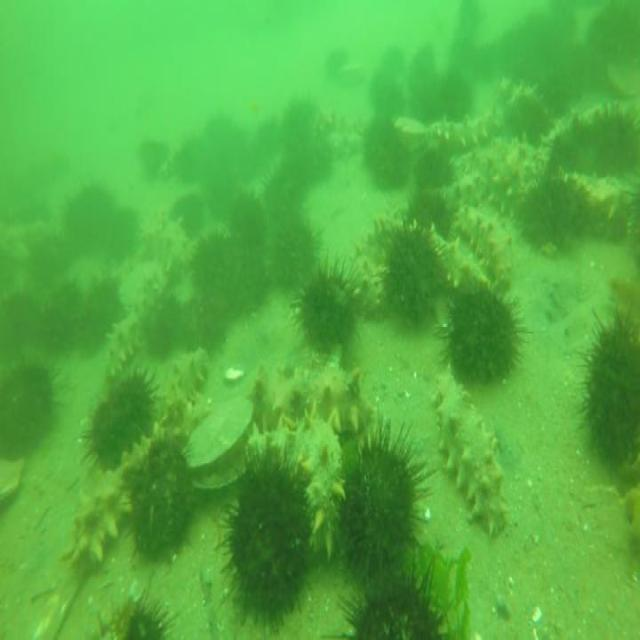echinus: (216, 447, 314, 631), (342, 403, 437, 575), (570, 302, 640, 482), (336, 558, 459, 640), (122, 436, 193, 564), (446, 276, 526, 388), (383, 217, 440, 335), (294, 254, 356, 356), (0, 360, 55, 463), (527, 170, 583, 268), (91, 583, 181, 640), (84, 395, 134, 482), (587, 99, 640, 181), (544, 108, 593, 194), (269, 215, 320, 292), (76, 275, 128, 349), (189, 229, 231, 318), (0, 285, 51, 357), (61, 177, 111, 248), (110, 370, 156, 446), (226, 242, 271, 311), (24, 224, 71, 290), (142, 280, 183, 354), (96, 201, 145, 262), (258, 166, 306, 227), (405, 179, 449, 245), (284, 130, 330, 188), (227, 185, 265, 251), (368, 62, 405, 128), (408, 44, 440, 116), (511, 90, 549, 150), (372, 131, 408, 193), (412, 141, 452, 196), (359, 112, 394, 172), (439, 58, 474, 117), (200, 164, 233, 220), (282, 94, 320, 140), (174, 136, 204, 188), (136, 136, 168, 182), (254, 114, 284, 163), (168, 193, 202, 234), (326, 43, 349, 79)
holothurian: (60, 414, 174, 583), (247, 414, 346, 559), (431, 372, 509, 544), (254, 360, 366, 448), (475, 128, 545, 228), (456, 194, 521, 294), (156, 340, 212, 431), (419, 218, 476, 303), (343, 235, 391, 332), (575, 174, 631, 246), (427, 110, 501, 156), (102, 302, 150, 368), (133, 213, 183, 267), (315, 104, 342, 142)
scallop: (176, 395, 256, 492), (391, 107, 432, 147), (340, 60, 368, 85)
